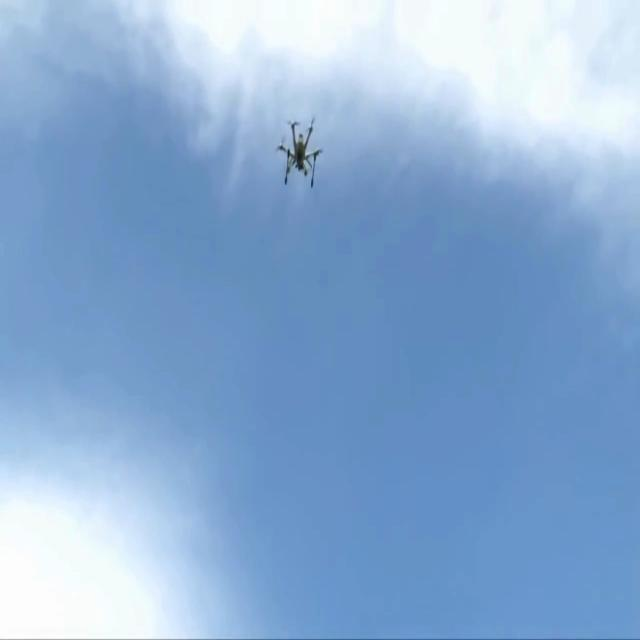drone: (276, 115, 323, 188)
